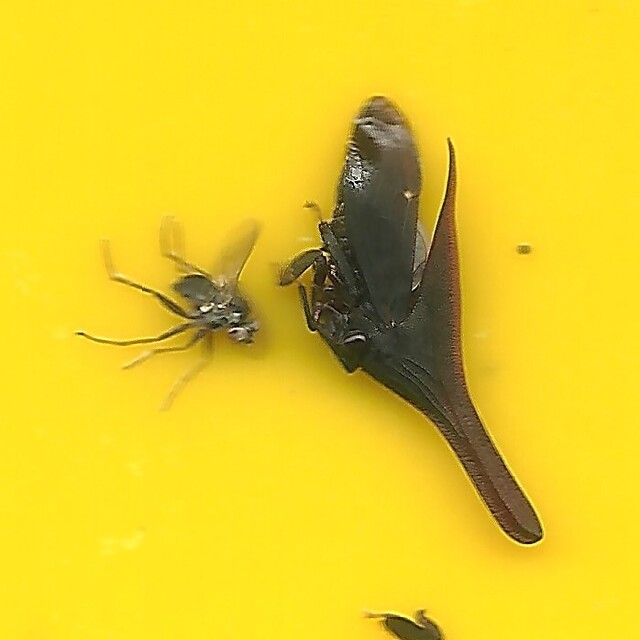Brachycera: (92, 214, 263, 405)
Hemiptera: (275, 96, 548, 544)
